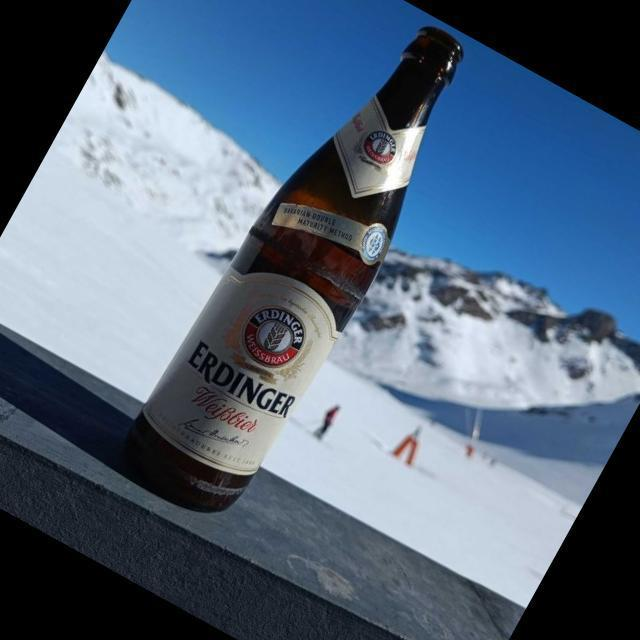Glass: (123, 25, 466, 512)
